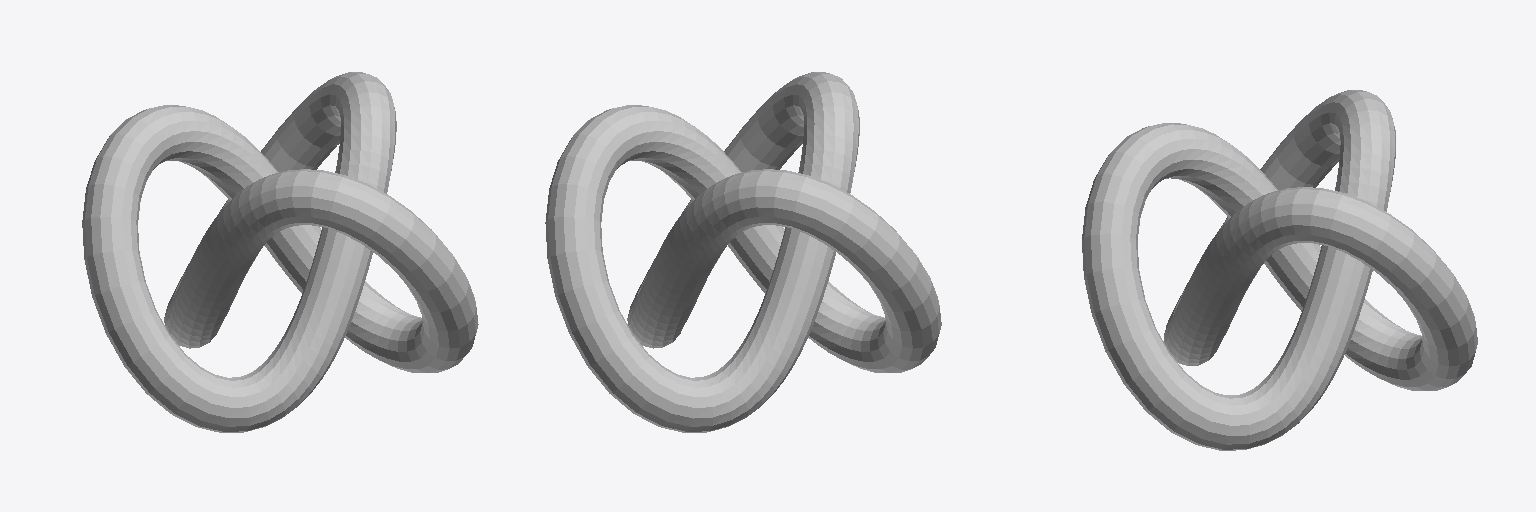
The model's file is torusknot.obj.
3 views of the same model, side by side, from view 1: azimuth 30°, elevation 25°; view 2: azimuth 150°, elevation 25°; view 3: azimuth 270°, elevation 25° (orthographic).
Size of the model in its own units: 33.3 by 25.4 by 35.45.